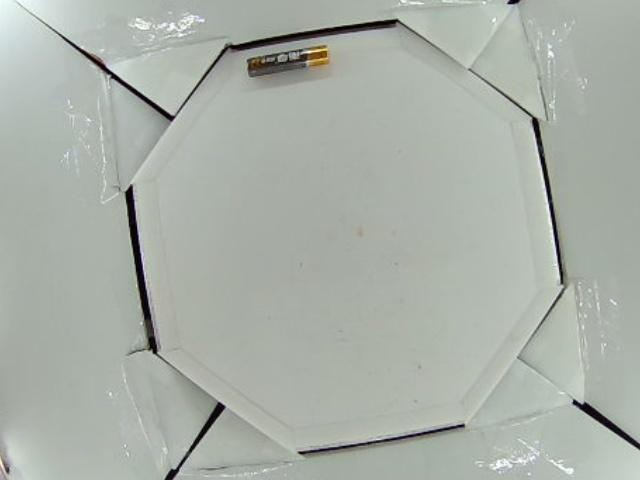Battery: (245, 44, 331, 82)
